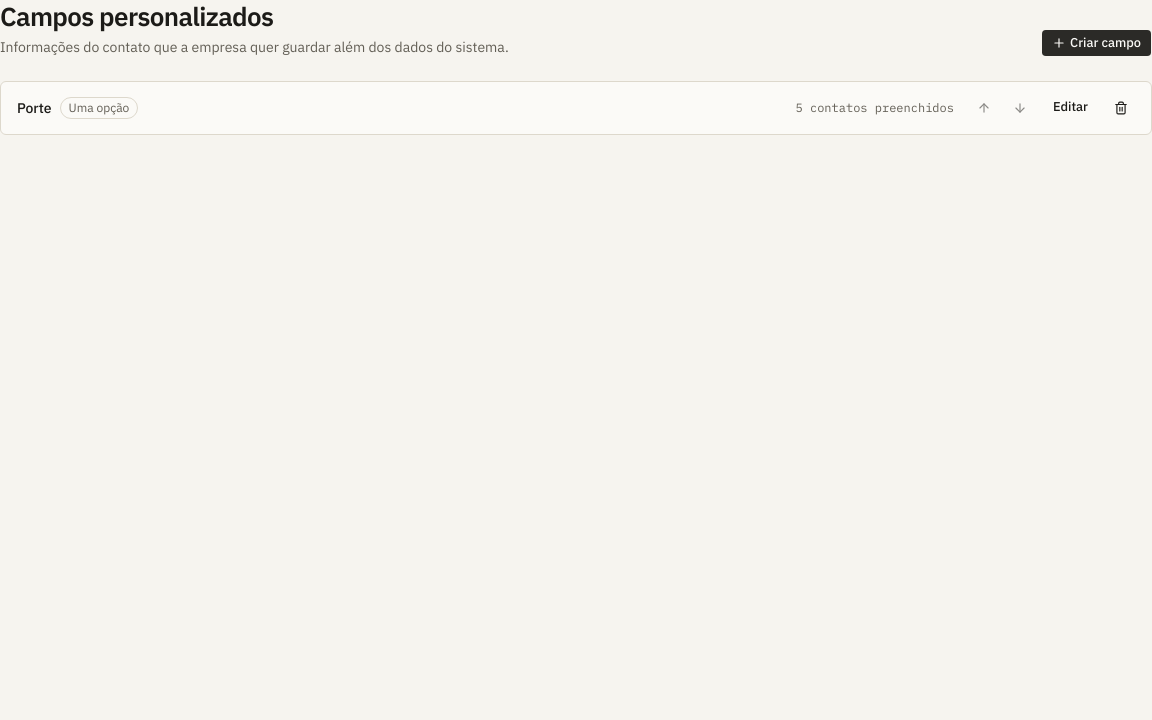
it: B38-06 — apagar campo e tirar opção na tela › CA-B38-45: should mostrar Usado em e não oferecer tirar a opção em uso
Click the button "Editar" at (1070, 108), box [1042,94,1099,122]
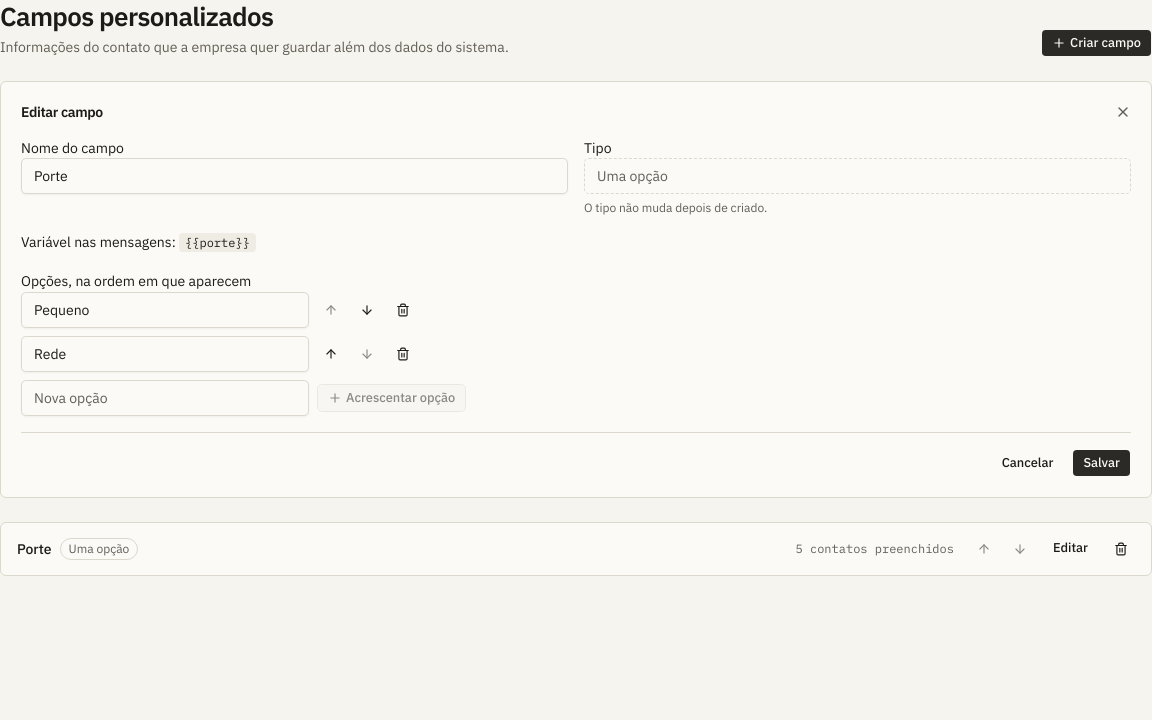
Click the button named "Tirar a opção Rede" at (403, 354), box [389,340,417,368]
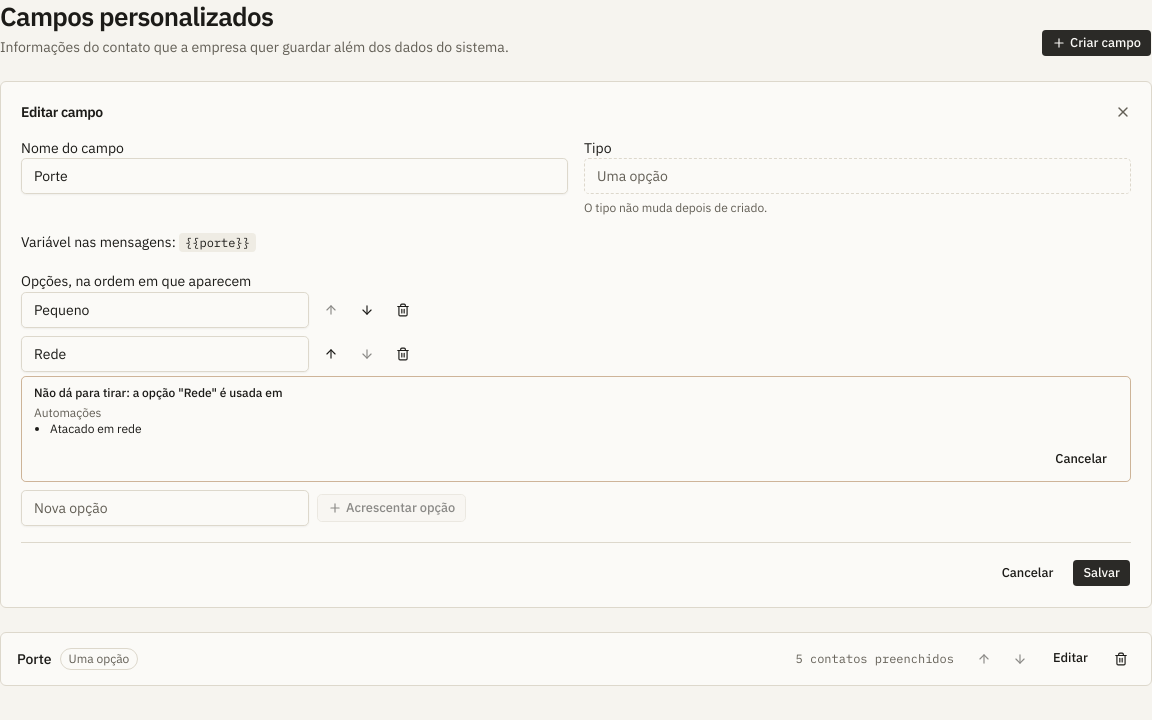
Check: the list named "Automações" reads "Atacado em rede", box [50,420,142,436]
